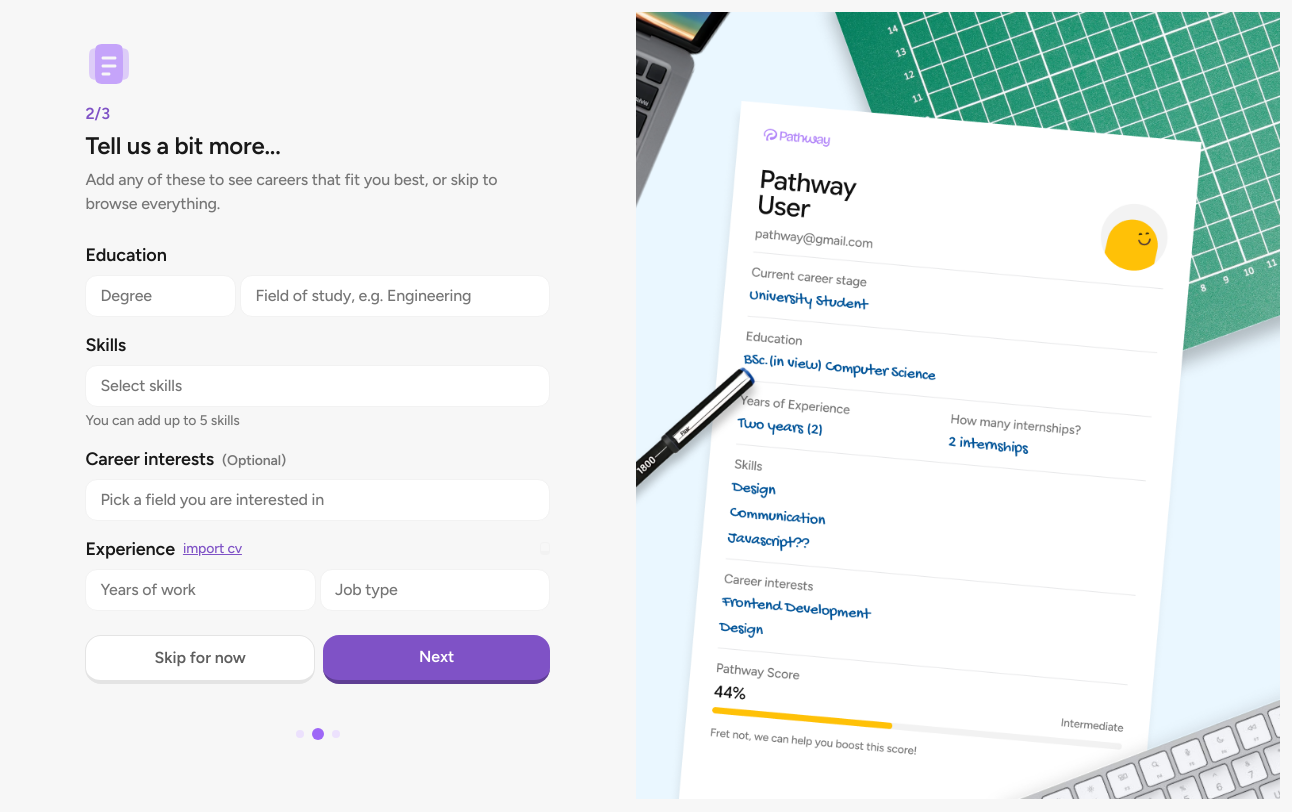
it: AboutYou › shows a message when import cv is clicked
Click the button "import cv" at x=212, y=548, box [183,538,242,558]
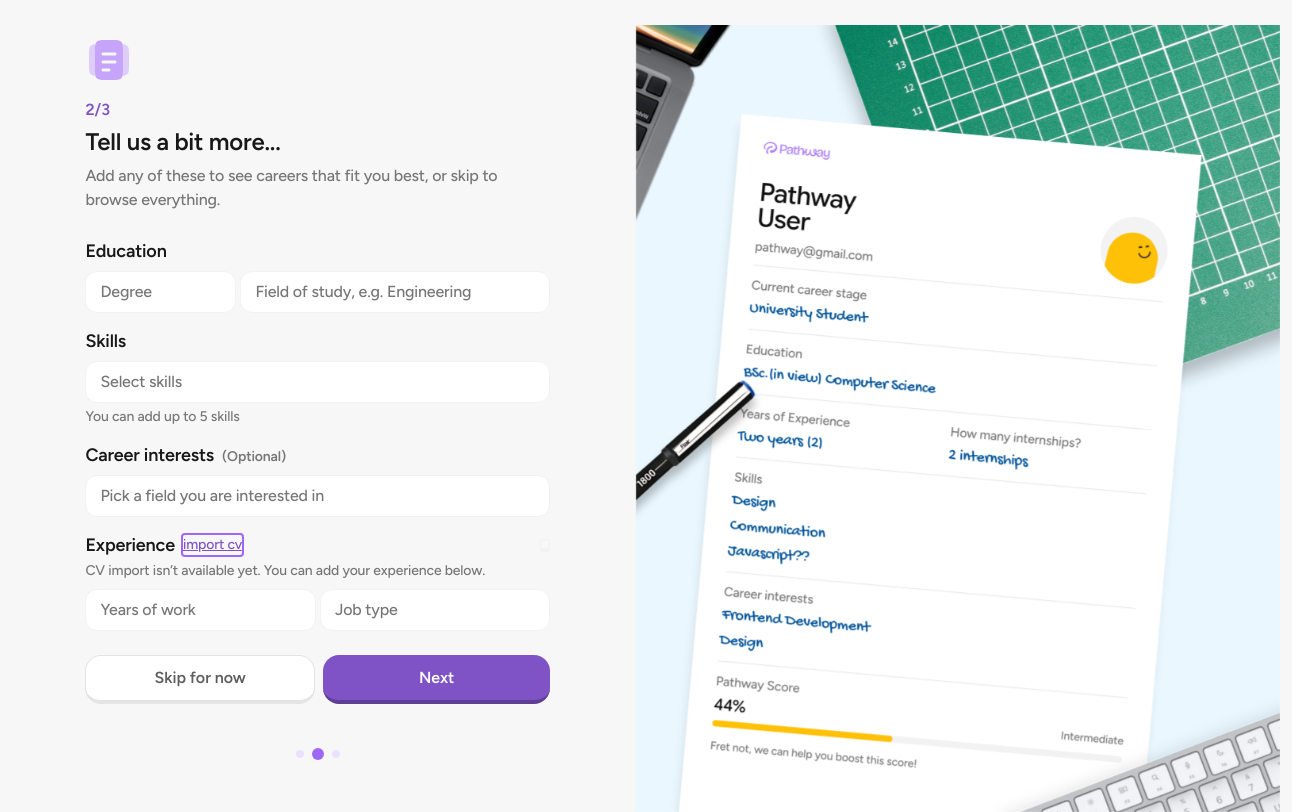
Now the text "CV import isn.t available yet" is shown, box [85,562,485,579]
